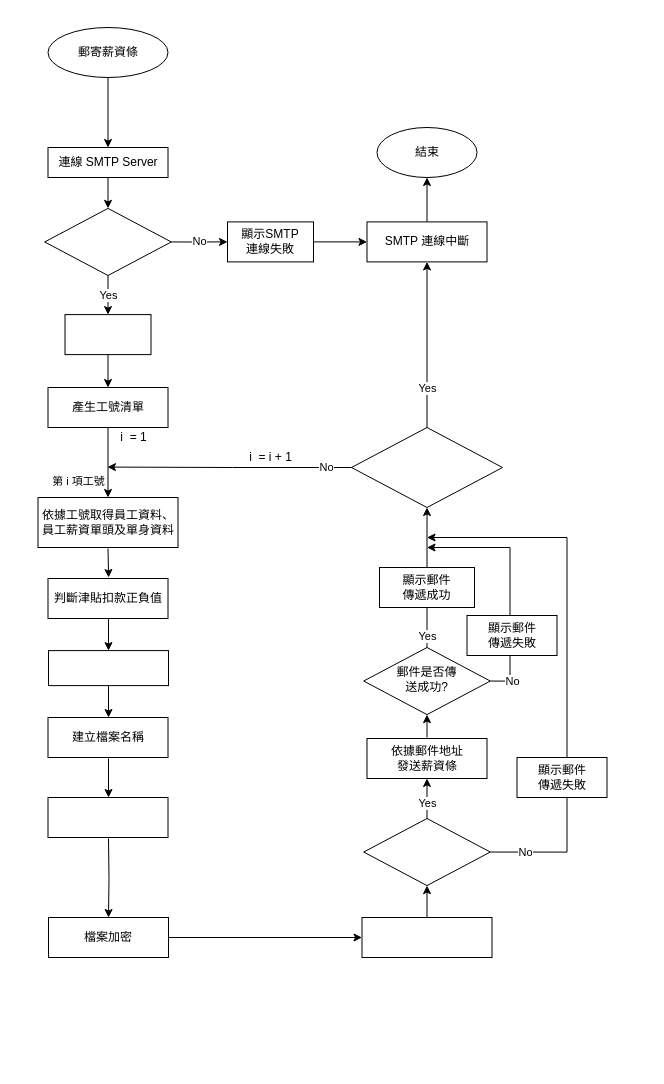
Image size: 664x1084. Some labels were removed from this diagram. The centre of each missing label's shape, as x and y in pixels:
"SMTP是否 連線成功?" goes at point (107, 241).
"依據工號取得郵件地址" goes at point (426, 937).
"將薪資條轉換成PDF" goes at point (107, 817).
"是否是清單中最 後一個項目?" goes at point (426, 467).
"產生薪資條" goes at point (108, 668).
"郵件地址是否存在?" goes at point (426, 852).
"顯示SMTP 連線成功" goes at point (107, 334).
